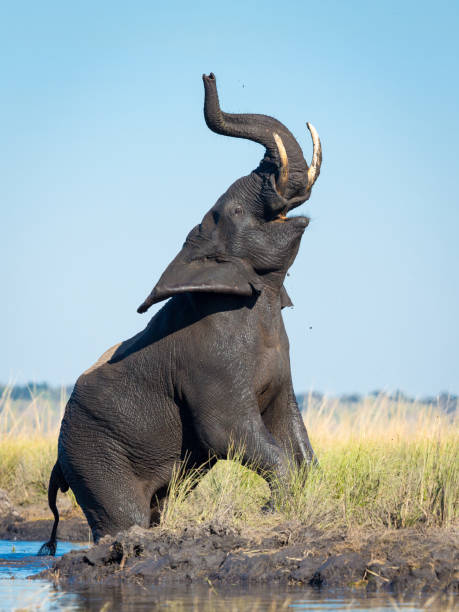africanelephant: (196, 124, 327, 301)
